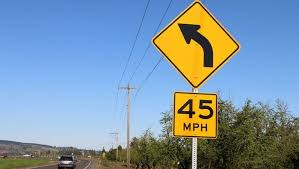Left Curve Ahead: (150, 41, 211, 110)
